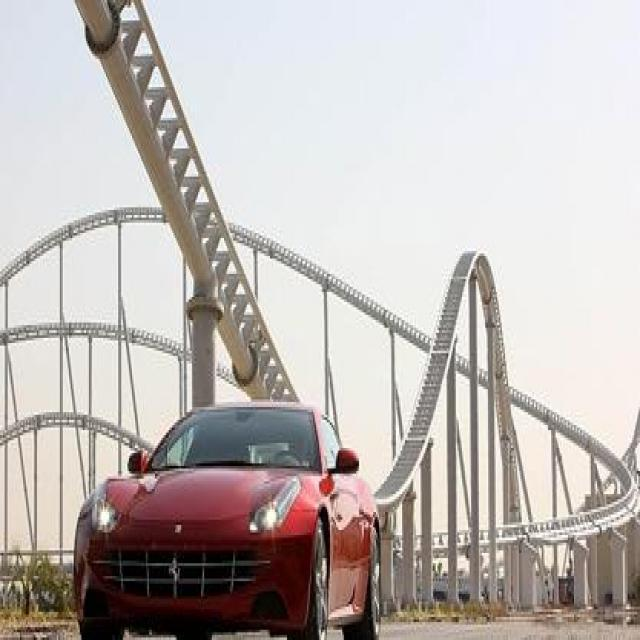Car: (100, 276, 418, 640)
